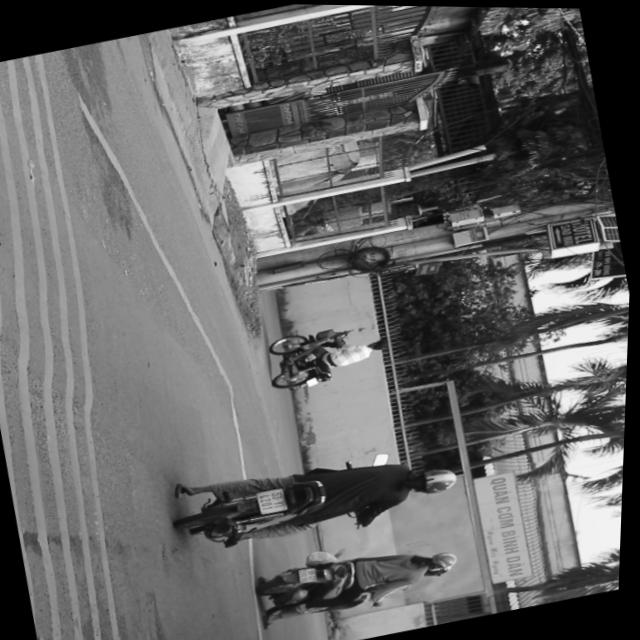helmet: (412, 458, 465, 493), (425, 545, 466, 572)
licenseplate: (171, 424, 469, 562), (254, 524, 470, 626)
nohelmet: (262, 485, 291, 510), (302, 564, 323, 581)
